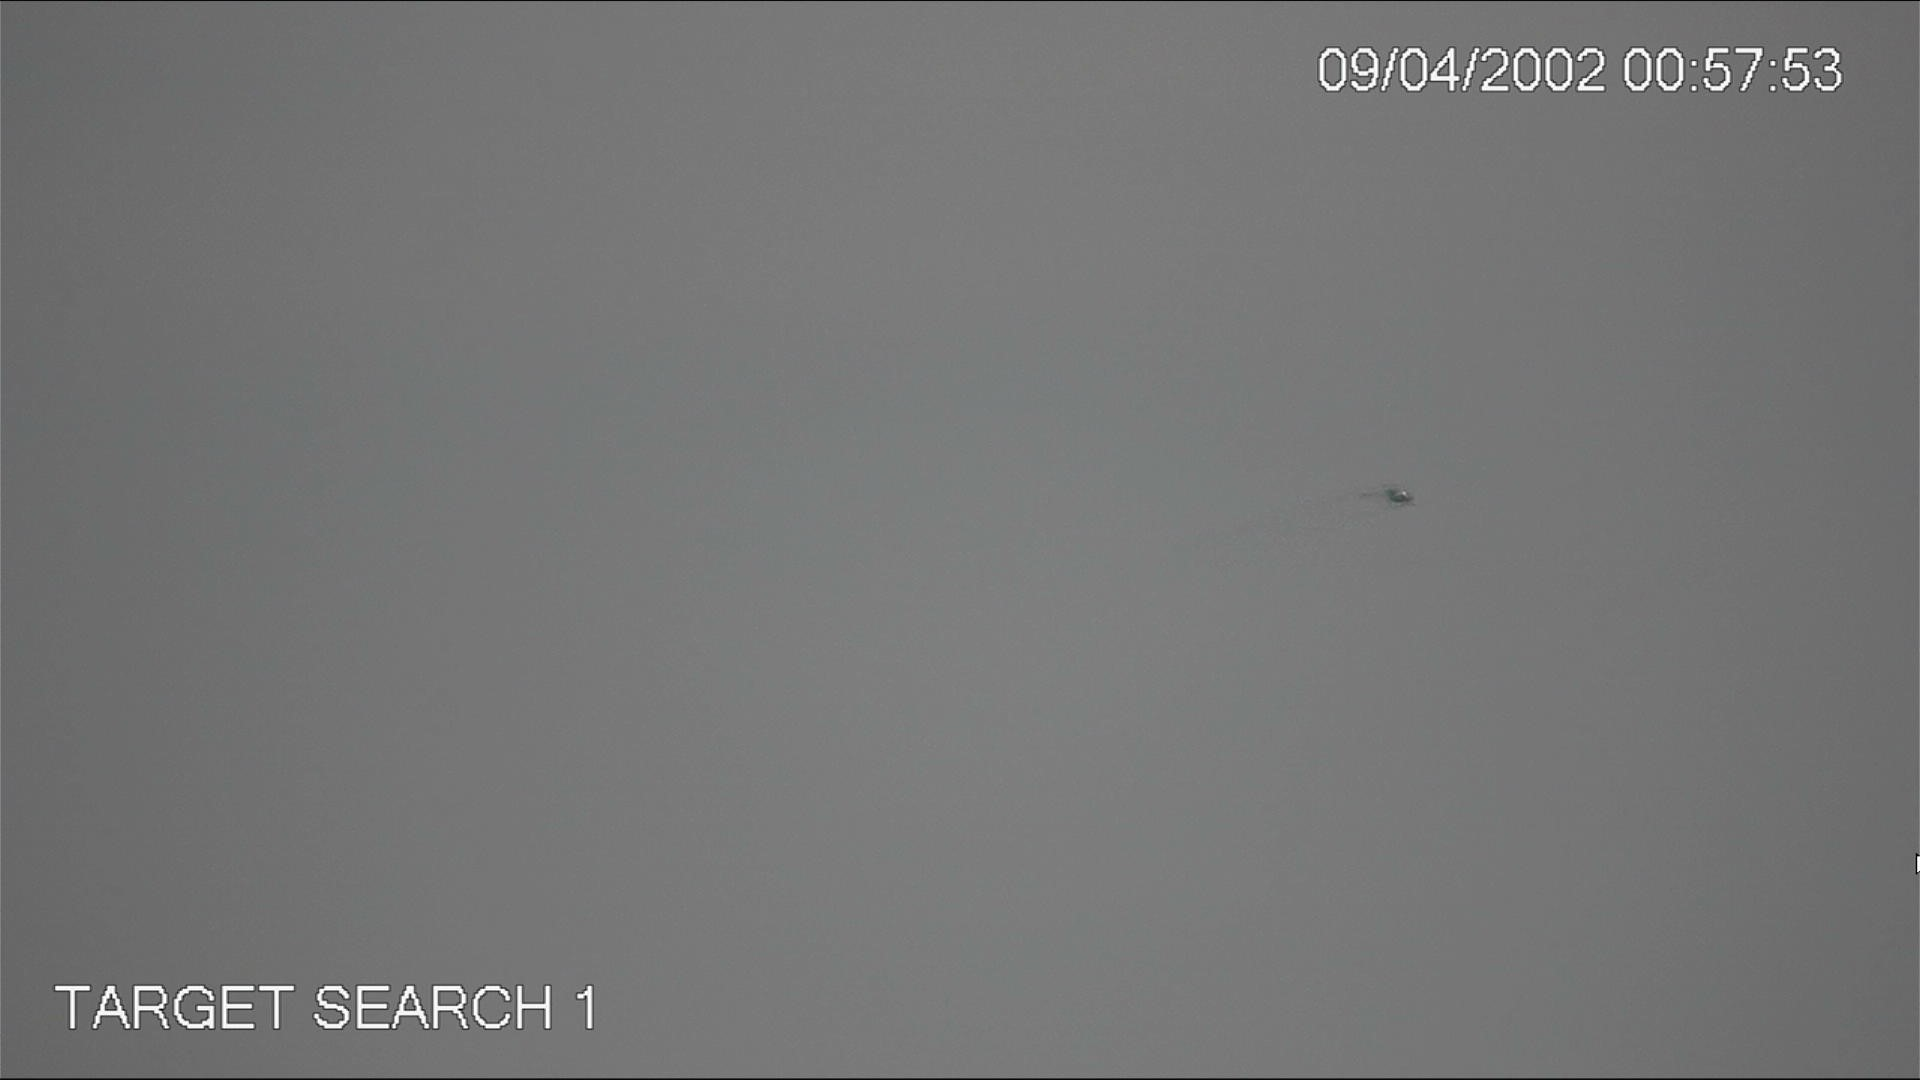SU_30: (1344, 472, 1420, 512)
